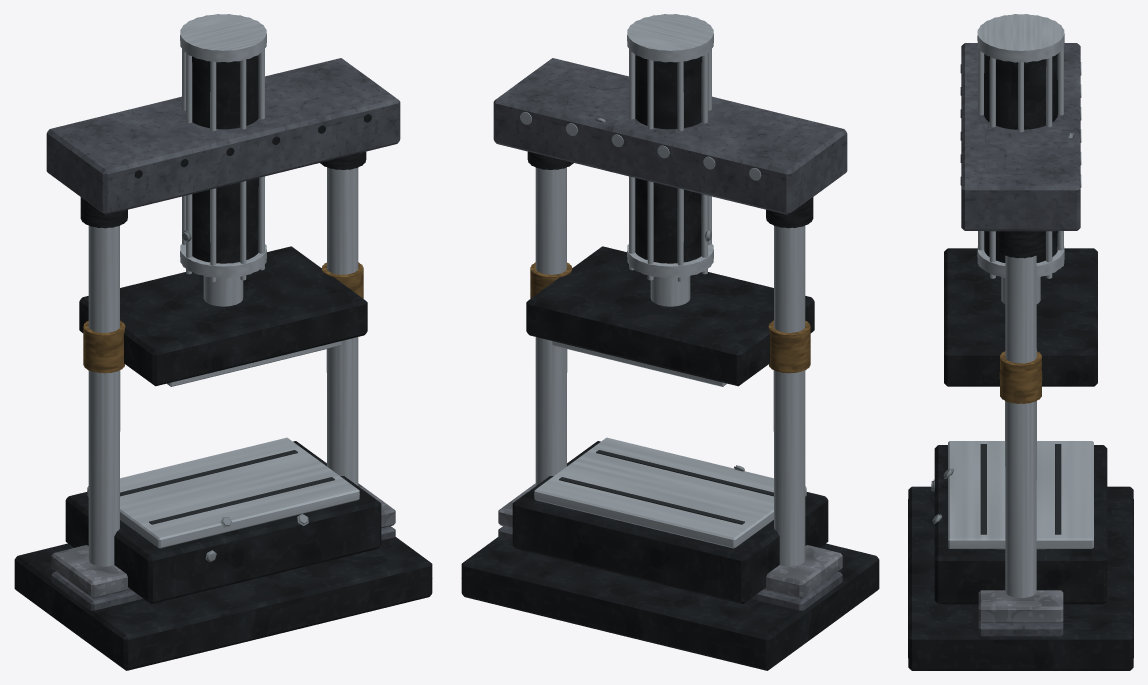
3 renders of one model, left to right at view 1: azimuth 30°, elevation 25°; view 2: azimuth 150°, elevation 25°; view 3: azimuth 270°, elevation 25°, orthographic.
Visible parts, largest first — view 1: forged-iron-strapwork (×2), machined-bearing-steel (×2), granite-ashlar, tooled-granite-edges, aged-bronze, mortar-joint-recess; view 2: forged-iron-strapwork (×2), machined-bearing-steel (×2), granite-ashlar, tooled-granite-edges, aged-bronze, mortar-joint-recess; view 3: forged-iron-strapwork (×2), machined-bearing-steel, granite-ashlar, tooled-granite-edges, aged-bronze, mortar-joint-recess.
Part boxes in pixels (x1=…): forged-iron-strapwork (×2): x1=14, y1=55, x2=432, y2=670; machined-bearing-steel (×2): x1=87, y1=14, x2=359, y2=566; granite-ashlar: x1=46, y1=58, x2=400, y2=610; tooled-granite-edges: x1=51, y1=483, x2=395, y2=598; aged-bronze: x1=83, y1=262, x2=363, y2=373; mortar-joint-recess: x1=120, y1=450, x2=334, y2=524; forged-iron-strapwork (×2): x1=461, y1=55, x2=879, y2=670; machined-bearing-steel (×2): x1=520, y1=14, x2=806, y2=566; granite-ashlar: x1=493, y1=58, x2=847, y2=610; tooled-granite-edges: x1=498, y1=483, x2=842, y2=598; aged-bronze: x1=530, y1=262, x2=810, y2=373; mortar-joint-recess: x1=559, y1=450, x2=773, y2=524; forged-iron-strapwork (×2): x1=908, y1=54, x2=1133, y2=670; machined-bearing-steel: x1=948, y1=14, x2=1093, y2=597; granite-ashlar: x1=961, y1=43, x2=1080, y2=636; tooled-granite-edges: x1=978, y1=590, x2=1063, y2=623; aged-bronze: x1=999, y1=351, x2=1042, y2=403; mortar-joint-recess: x1=980, y1=444, x2=1061, y2=534.
Size of the model in its own units: 1.35 by 2.35 by 0.85.
7 materials, 5 textured.
